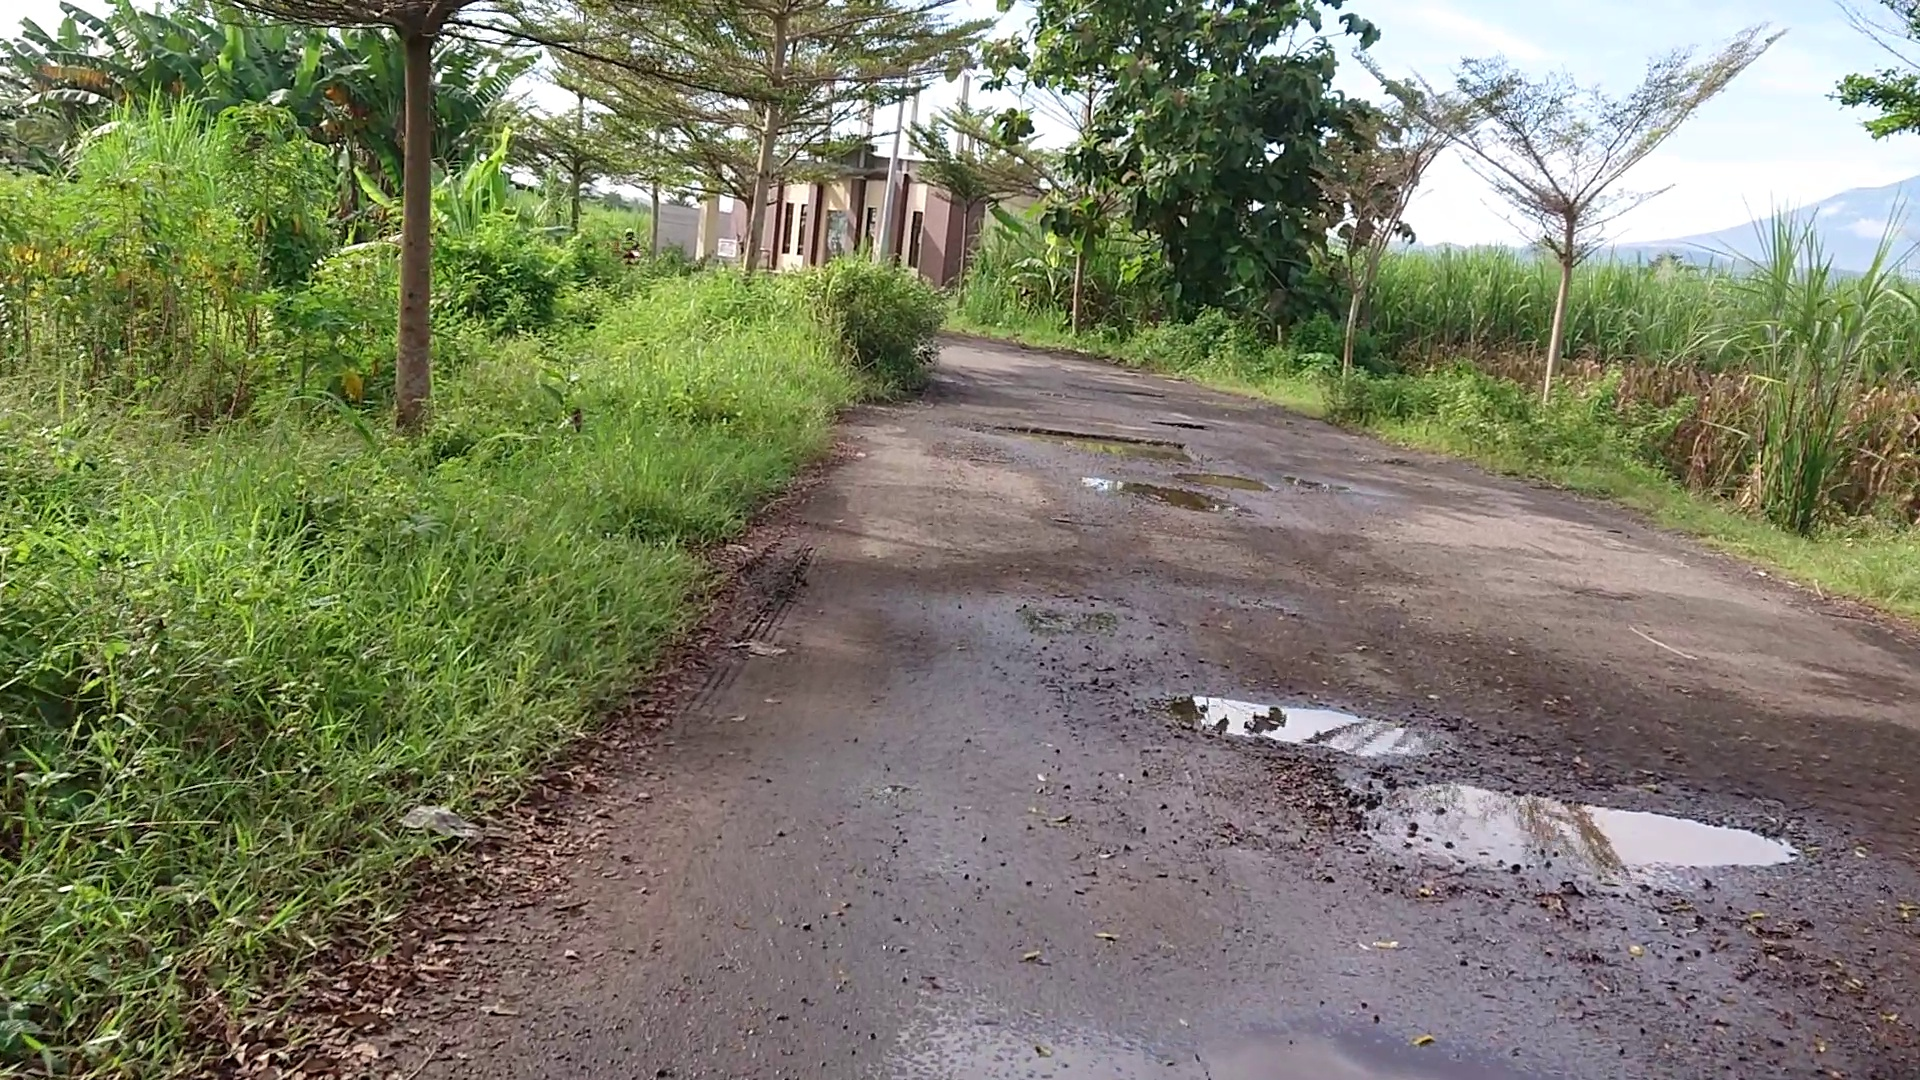Berlubang: (1381, 782, 1775, 873), (992, 411, 1299, 527), (1164, 695, 1420, 752)
